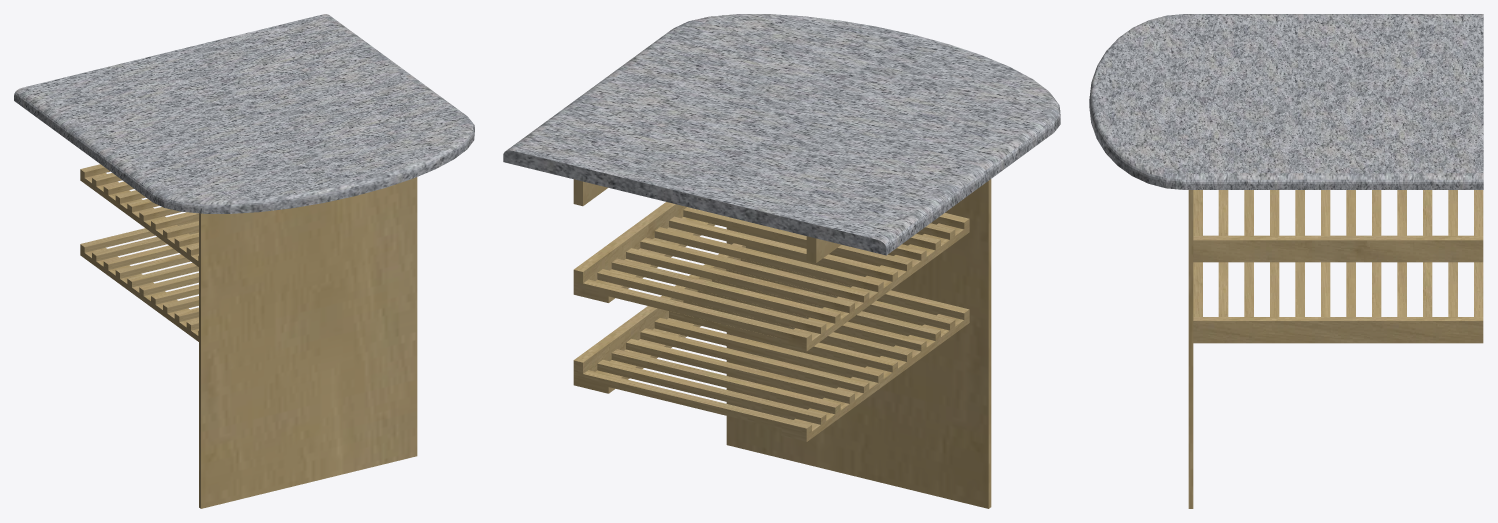
File: sh-bs0-island-extension.glb
3 views of the same model, side by side, from view 1: azimuth 30°, elevation 25°; view 2: azimuth 150°, elevation 25°; view 3: azimuth 270°, elevation 25° (orthographic). The views are drawn at different scales.
Visible parts, largest first — view 1: Cube.003_Cube.004; view 2: Cube.003_Cube.004; view 3: Cube.003_Cube.004.
Part boxes in pixels (x1=…): Cube.003_Cube.004: x1=14, y1=14, x2=474, y2=508; Cube.003_Cube.004: x1=503, y1=14, x2=1060, y2=508; Cube.003_Cube.004: x1=1089, y1=14, x2=1483, y2=508.
Bounding box in the file's own units: 1 × 1 × 1.
Materials: 2 (2 with a texture image).
